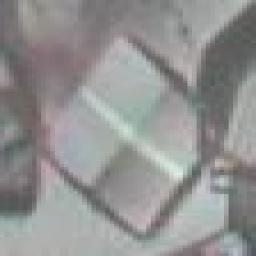crystals: (35, 29, 210, 244)
